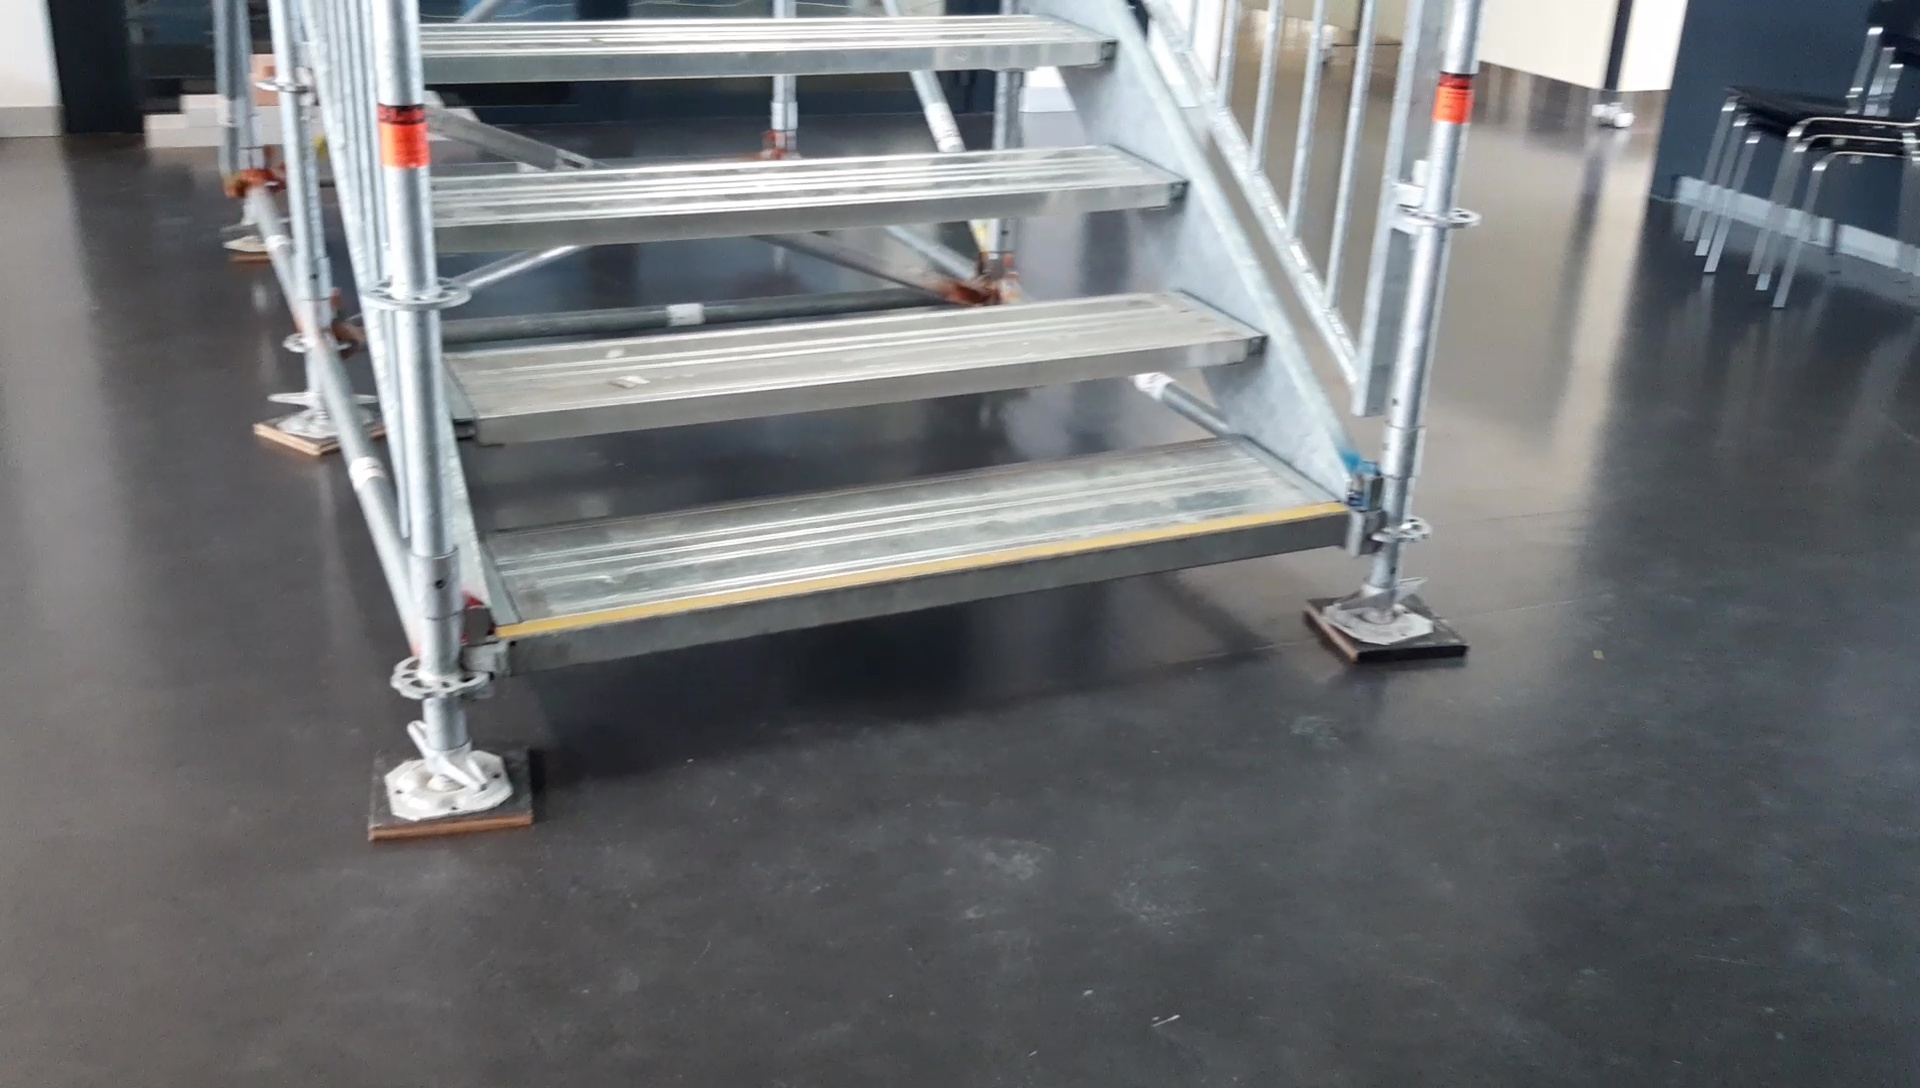edge: (513, 506, 1350, 670), (455, 334, 1267, 443), (430, 179, 1189, 248), (422, 36, 1117, 78)
stairs: (367, 0, 1468, 839)
